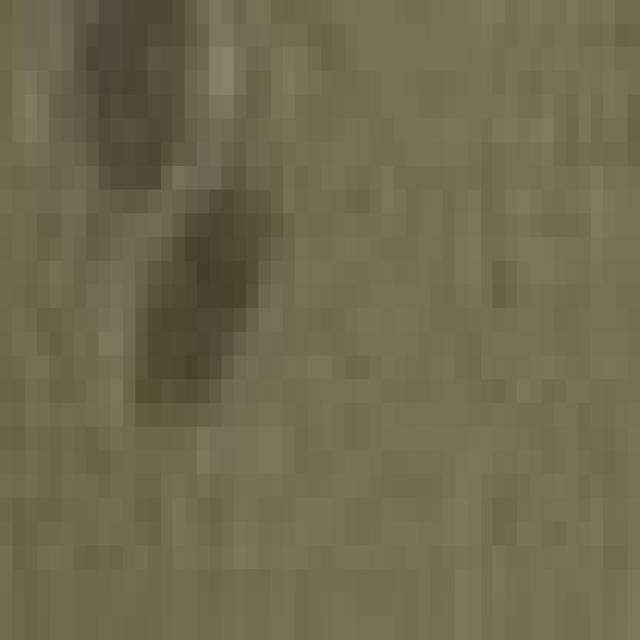.: (122, 145, 304, 443)
